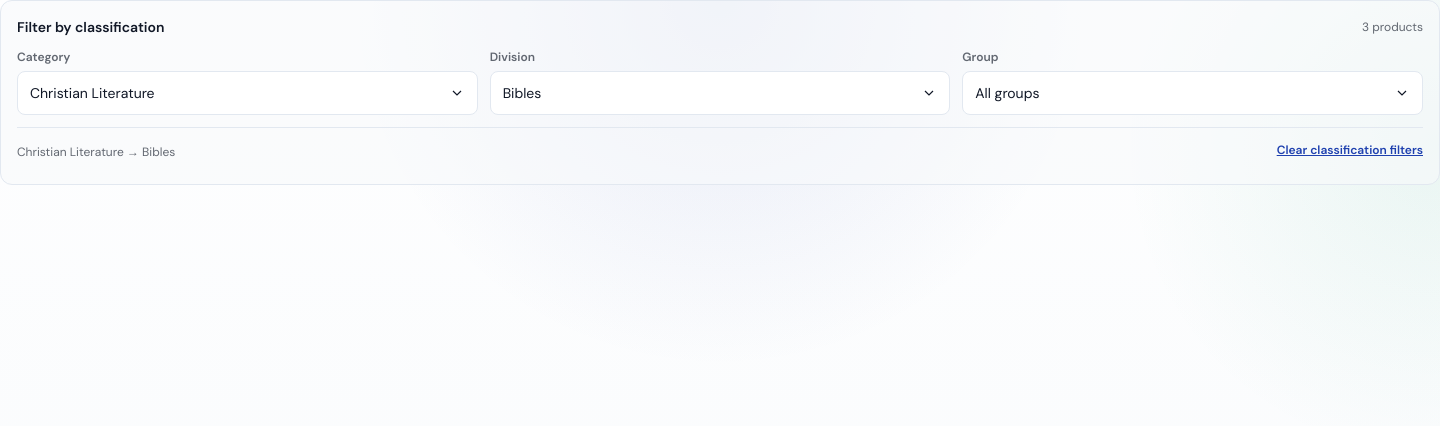
Test: searches divisions and groups within their parents and resets search when changing levels
This screenshot has width=1440, height=426.
Click the button named "Division " at (522, 93), box top-left (490, 71), bottom-right (950, 115)
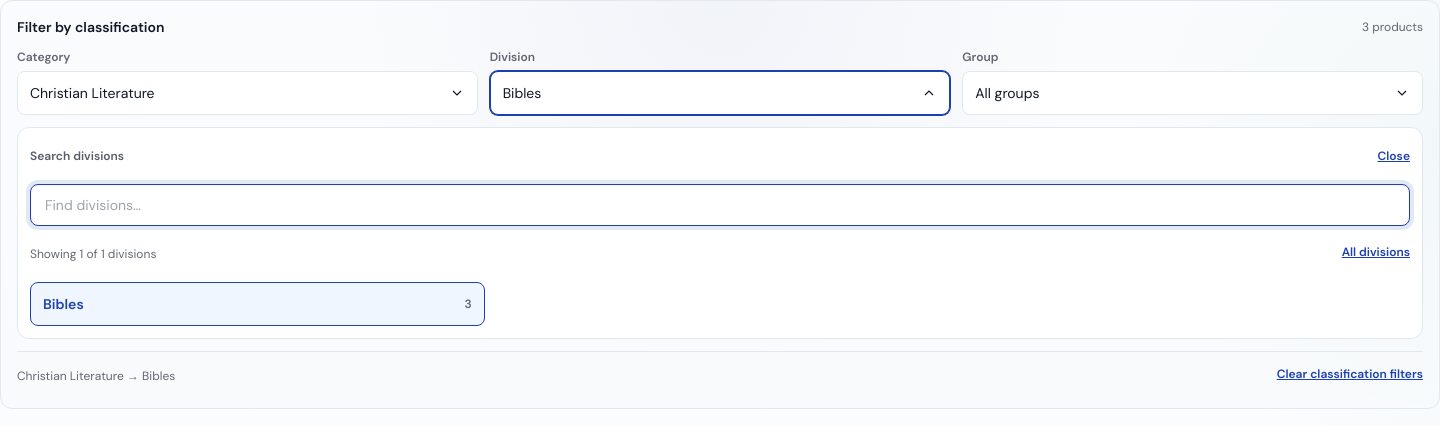
Type "BIBLES" into the search field labelled "Search divisions" at (720, 205), box top-left (30, 184), bottom-right (1410, 226)
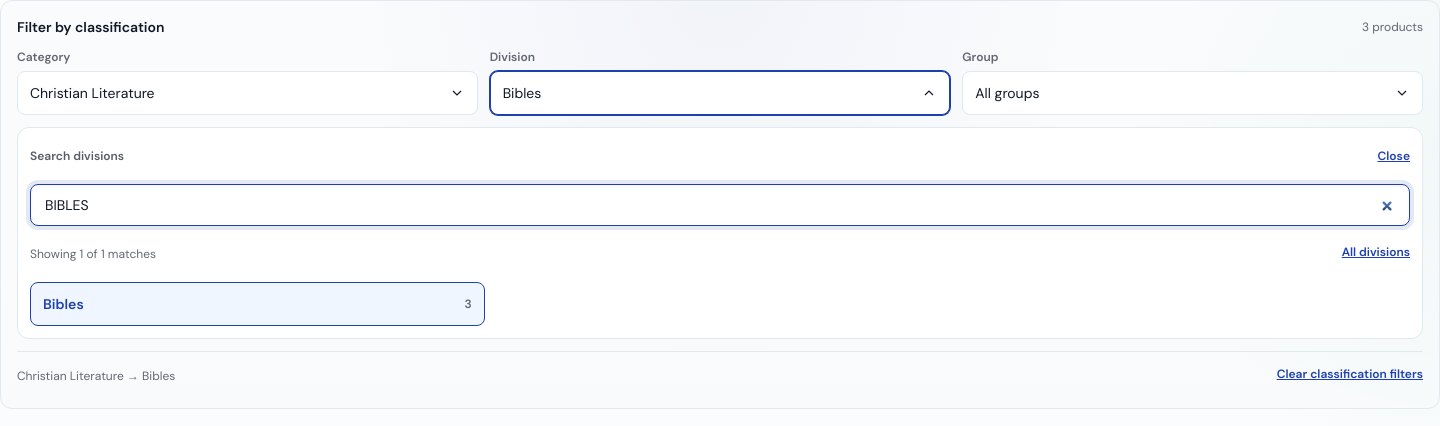
Click the button named "Group " at (1007, 93), box top-left (962, 71), bottom-right (1423, 115)
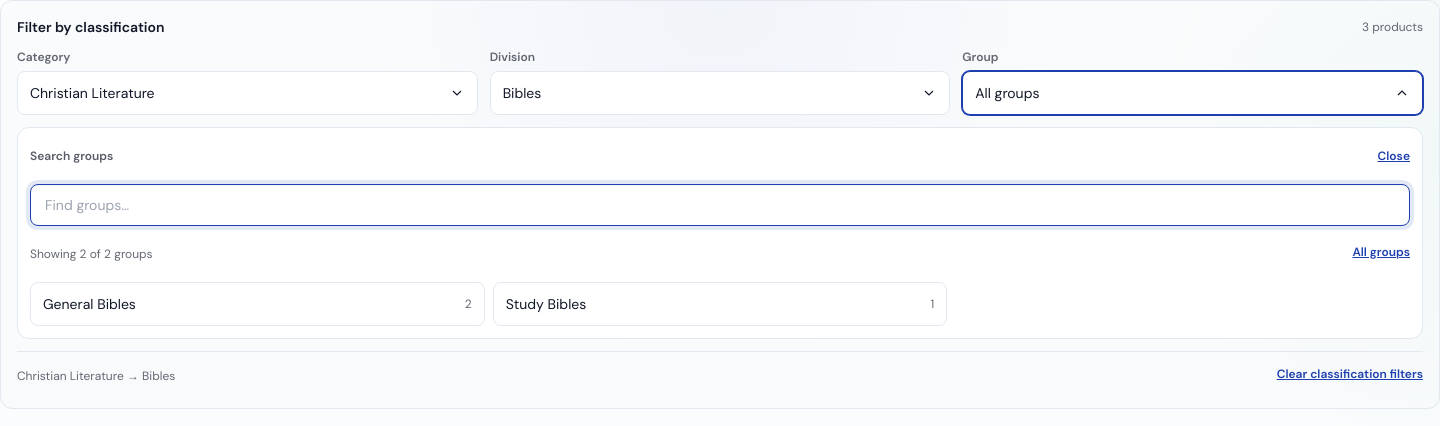
Result: the search field labelled "Search groups" is empty
Type "study" into the search field at (720, 205), box top-left (30, 184), bottom-right (1410, 226)
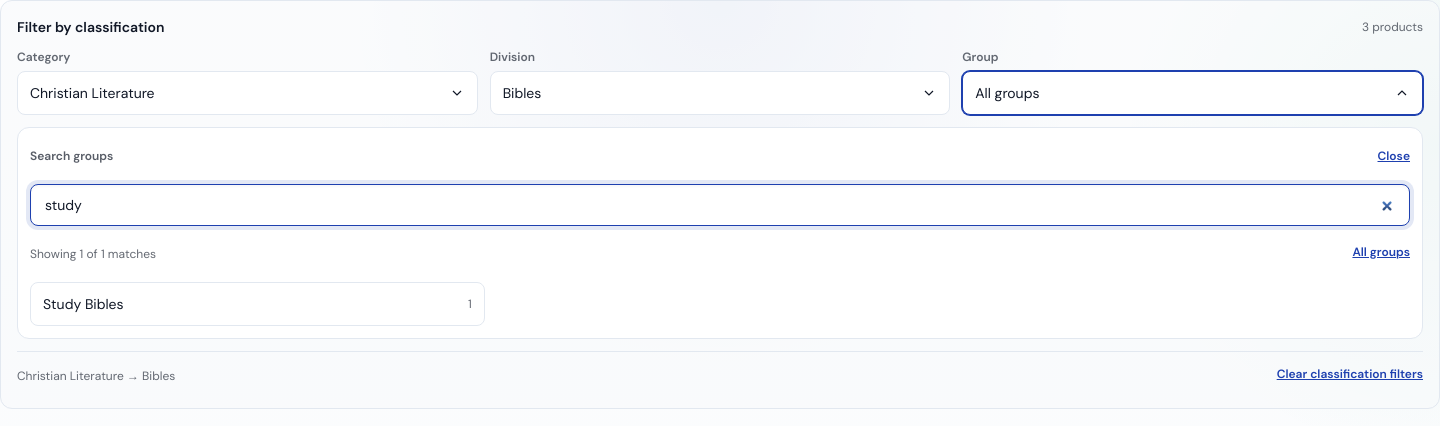
Result: the link "Study Bibles 1" is shown at top-left (30, 282), bottom-right (485, 326)
Result: the link "General Bibles" is gone
